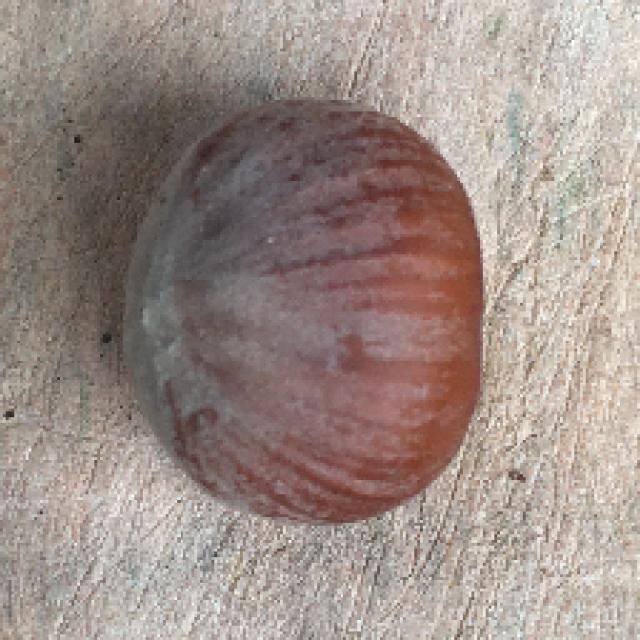qualityHazelnut: (112, 97, 495, 531)
